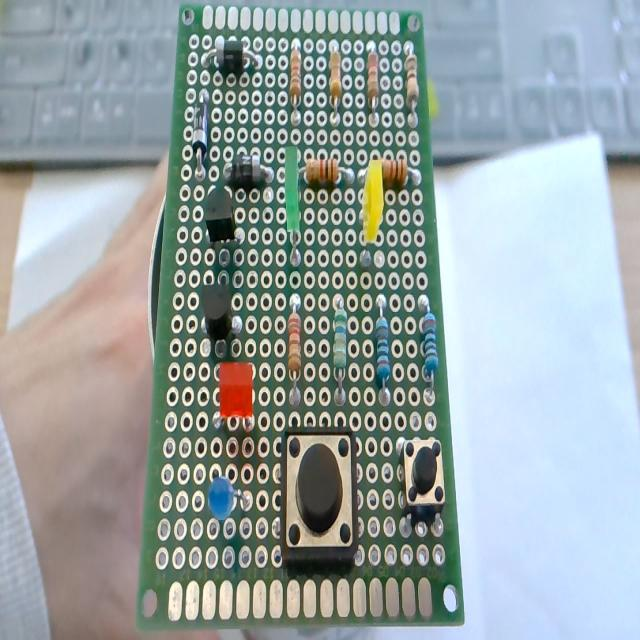diode: (192, 36, 258, 87), (186, 83, 218, 173), (217, 150, 271, 188)
led: (203, 354, 259, 434), (279, 141, 305, 271), (200, 462, 248, 532), (359, 158, 383, 270)
resistor: (284, 289, 306, 402), (416, 292, 438, 404), (374, 296, 396, 399), (330, 295, 350, 404), (396, 33, 419, 123), (323, 37, 345, 119), (362, 31, 381, 118), (289, 30, 306, 124), (301, 157, 351, 183)
switch: (278, 422, 362, 574), (393, 428, 449, 526)
transistor: (189, 277, 248, 346), (198, 187, 250, 256)
